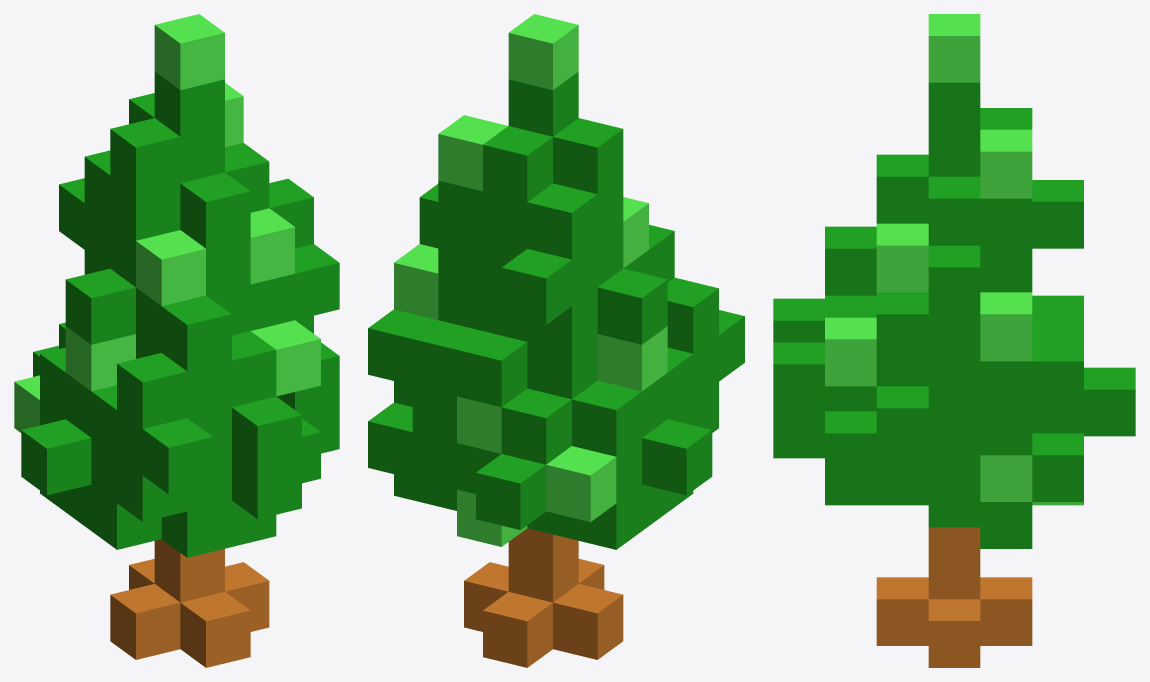
Rendered from Tree.fbx.
3 renders of one model, left to right at view 1: azimuth 30°, elevation 25°; view 2: azimuth 150°, elevation 25°; view 3: azimuth 270°, elevation 25°, orthographic.
Parts seen in each view (by area): view 1: Tree; view 2: Tree; view 3: Tree.
Part boxes in pixels (x1,y1,x2,y2): Tree: (14, 14, 339, 667); Tree: (368, 14, 744, 667); Tree: (773, 14, 1135, 667).
Size of the model in its own units: 6 by 13 by 7.
Materials: 1 (1 with a texture image).
